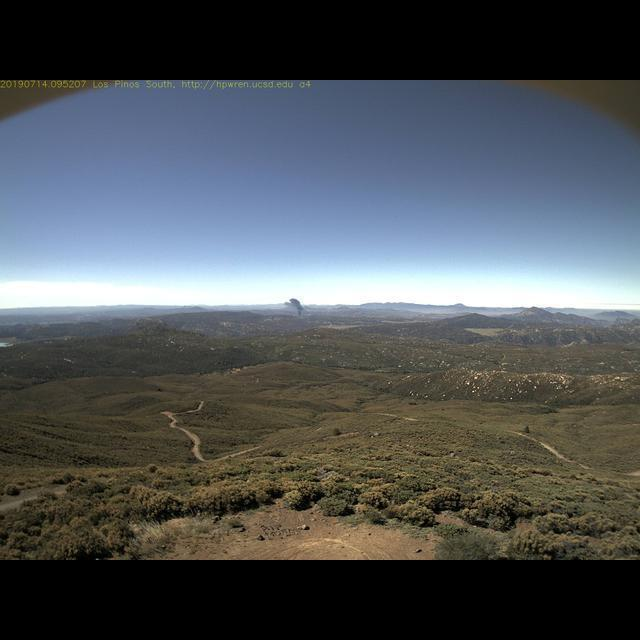Smoke: (281, 293, 307, 321)
